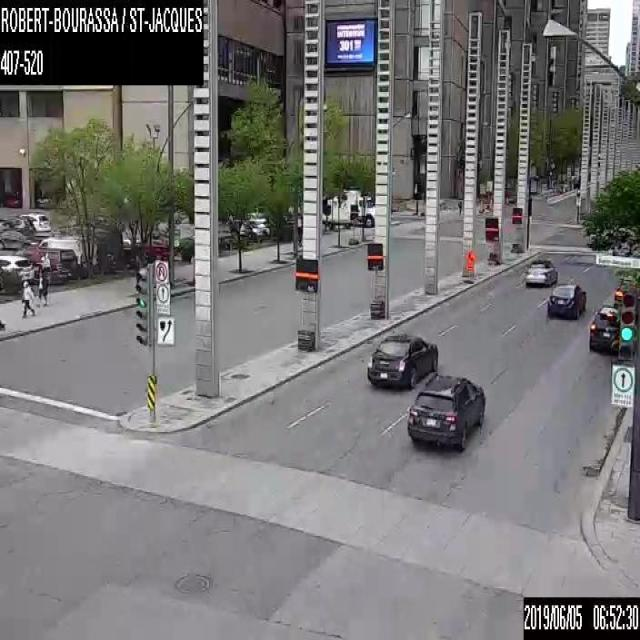construction: (462, 251, 473, 280)
pedestrian: (20, 280, 35, 317), (36, 270, 48, 306), (457, 197, 462, 211)
vehicle: (406, 376, 484, 450), (366, 334, 437, 389), (39, 235, 97, 278), (13, 246, 77, 282), (322, 186, 375, 225), (586, 306, 622, 354), (547, 284, 586, 318), (0, 254, 34, 281), (526, 258, 558, 286), (0, 228, 41, 248), (0, 215, 35, 233), (21, 211, 50, 230)
